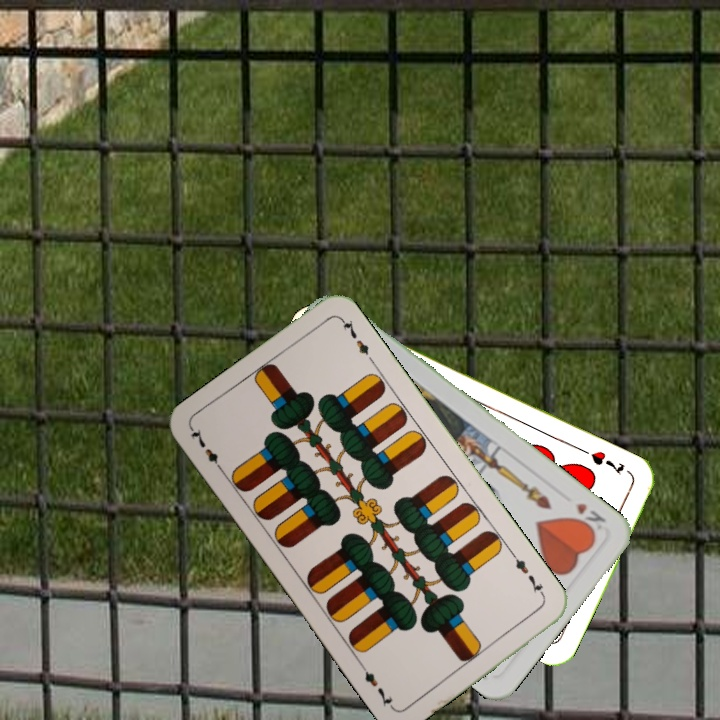E7: (186, 424, 227, 476), (508, 550, 548, 601)
H7: (587, 446, 627, 477)
HK: (569, 498, 609, 537)
